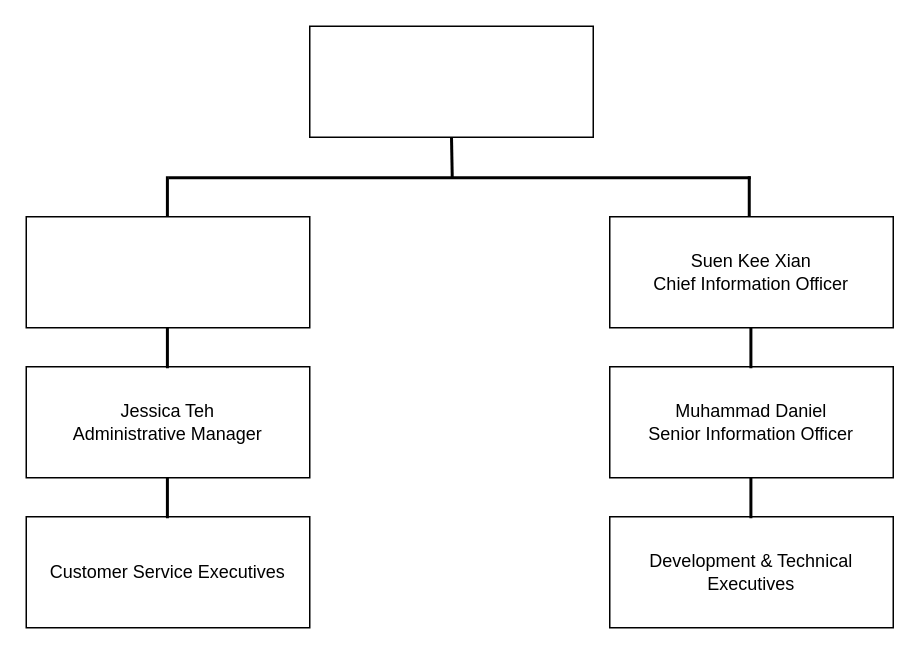
The diagram is 920 pixels wide and 654 high, and some of its shapes have lost their labels. Here are the shapes that lost their labels. From the top down, the box of each, then its label:
(308, 25, 593, 137): Tang Wen Shuen President
(25, 215, 310, 328): Chan Siang Sheng Chief Administrative Officer
